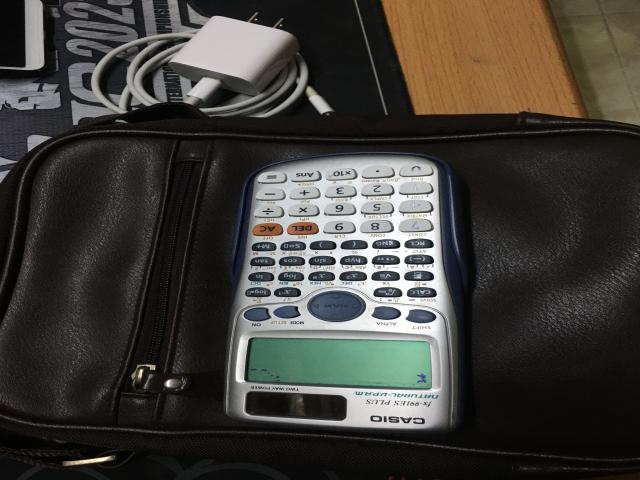wire: (90, 16, 308, 117)
